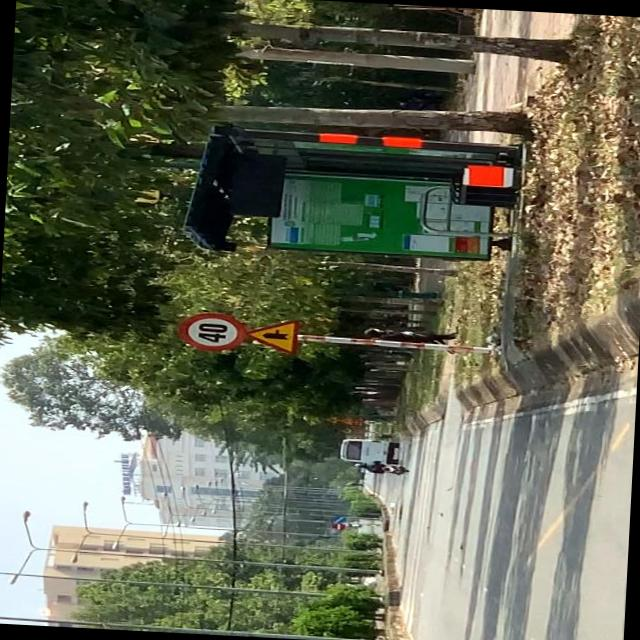P-127: (176, 309, 250, 355)
W-207b: (243, 315, 300, 358)
